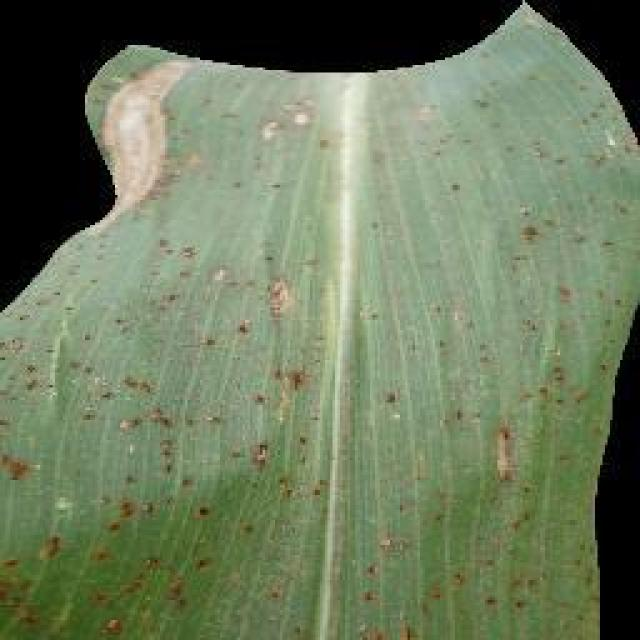Corn Common Rust: (108, 182, 580, 640)
